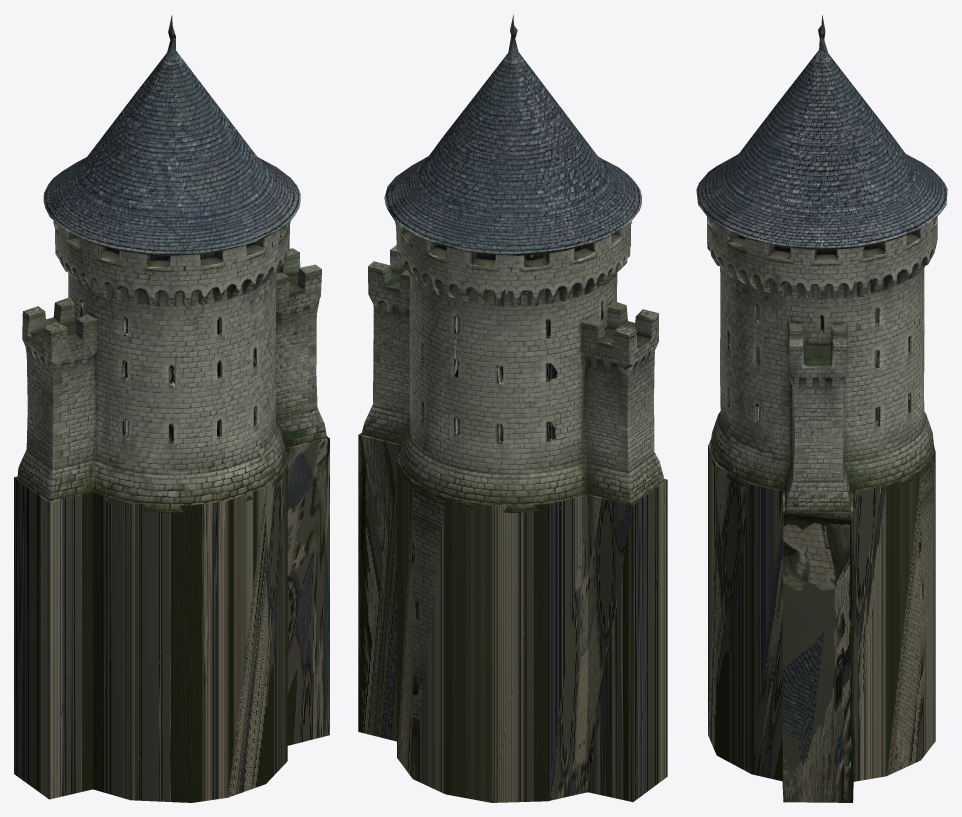
Rendered from wall_tower.glb.
3 renders of one model, left to right at view 1: azimuth 30°, elevation 25°; view 2: azimuth 150°, elevation 25°; view 3: azimuth 270°, elevation 25°, orthographic. The views are drawn at different scales.
Visible parts, largest first — view 1: wall_tower_export; view 2: wall_tower_export; view 3: wall_tower_export.
Boxes of the visible parts, x1,y1,x2,y2 form: wall_tower_export: (14, 15, 329, 802); wall_tower_export: (358, 14, 667, 802); wall_tower_export: (696, 15, 947, 802).
Size of the model in its own units: 18 by 45.76 by 14.42.
Materials: 2 (2 with a texture image).
